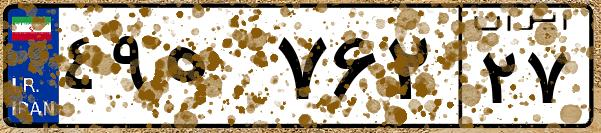2: (385, 28, 445, 110), (475, 38, 525, 113)
4: (57, 26, 110, 100)
6: (330, 28, 385, 110)
7: (270, 28, 330, 110), (525, 38, 570, 115)
9: (110, 28, 158, 98)
ه: (158, 20, 270, 120)
